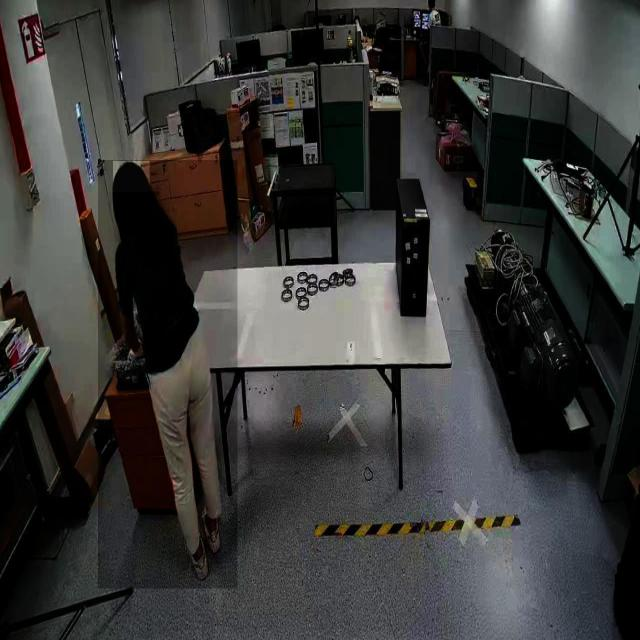head_nohelmet: (113, 161, 150, 193)
person: (98, 160, 238, 589)
shoes: (181, 523, 209, 580), (201, 505, 222, 555)
